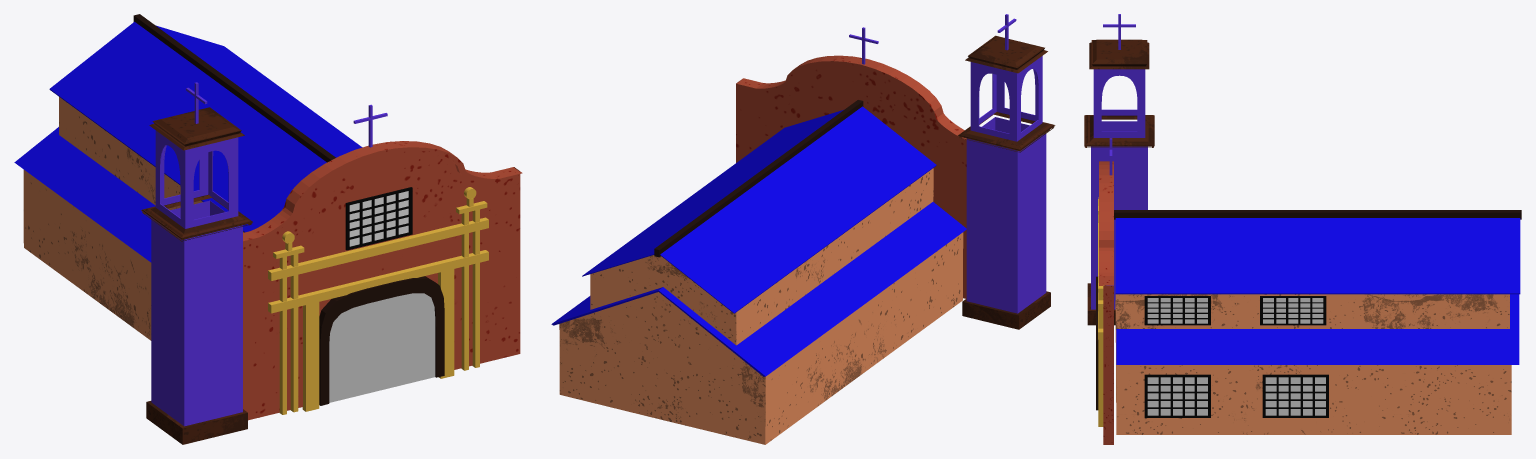
Rendered from Church Fin.fbx.
The picture shows the model from 3 angles, left to right: view 1: azimuth 30°, elevation 25°; view 2: azimuth 150°, elevation 25°; view 3: azimuth 270°, elevation 25°; orthographic projection. The views are drawn at different scales.
Parts seen in each view (by area): view 1: Arch, Roof, Tower, Church, Detail, Door, Tower trim, Door Trim, Roof Trim, Window, Glass; view 2: Church, Roof, Tower, Arch, Tower trim, Roof Trim; view 3: Roof, Church, Glass, Tower, Window, Arch, Tower trim, Roof Trim, Detail.
Part boxes in pixels (x1,y1,x2,y2): Arch: [243, 141, 522, 420]; Roof: [14, 21, 362, 262]; Tower: [151, 130, 242, 426]; Church: [23, 97, 244, 340]; Detail: [268, 187, 488, 414]; Door: [329, 293, 435, 402]; Tower trim: [141, 107, 252, 444]; Door Trim: [319, 276, 444, 405]; Roof Trim: [133, 14, 335, 162]; Window: [345, 187, 412, 250]; Glass: [349, 191, 408, 246]; Church: [559, 168, 963, 444]; Roof: [551, 106, 966, 376]; Tower: [966, 56, 1046, 313]; Arch: [736, 55, 966, 298]; Tower trim: [957, 35, 1055, 329]; Roof Trim: [654, 100, 863, 257]; Roof: [1115, 218, 1520, 364]; Church: [1115, 294, 1511, 434]; Glass: [1147, 298, 1325, 415]; Tower: [1091, 69, 1147, 309]; Window: [1144, 296, 1328, 417]; Arch: [1099, 161, 1113, 444]; Tower trim: [1084, 39, 1154, 325]; Roof Trim: [1114, 210, 1521, 219]; Detail: [1098, 197, 1104, 426].
Bounding box in the file's own units: 811 × 761 × 1009.
